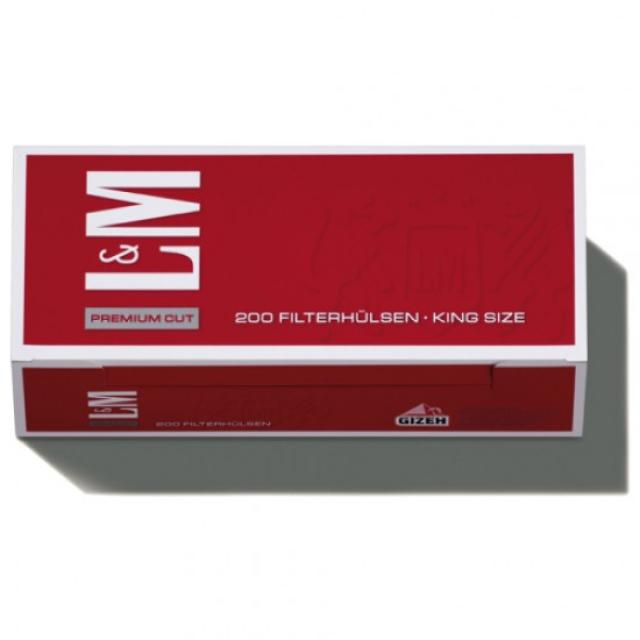lm: (18, 147, 590, 448)
